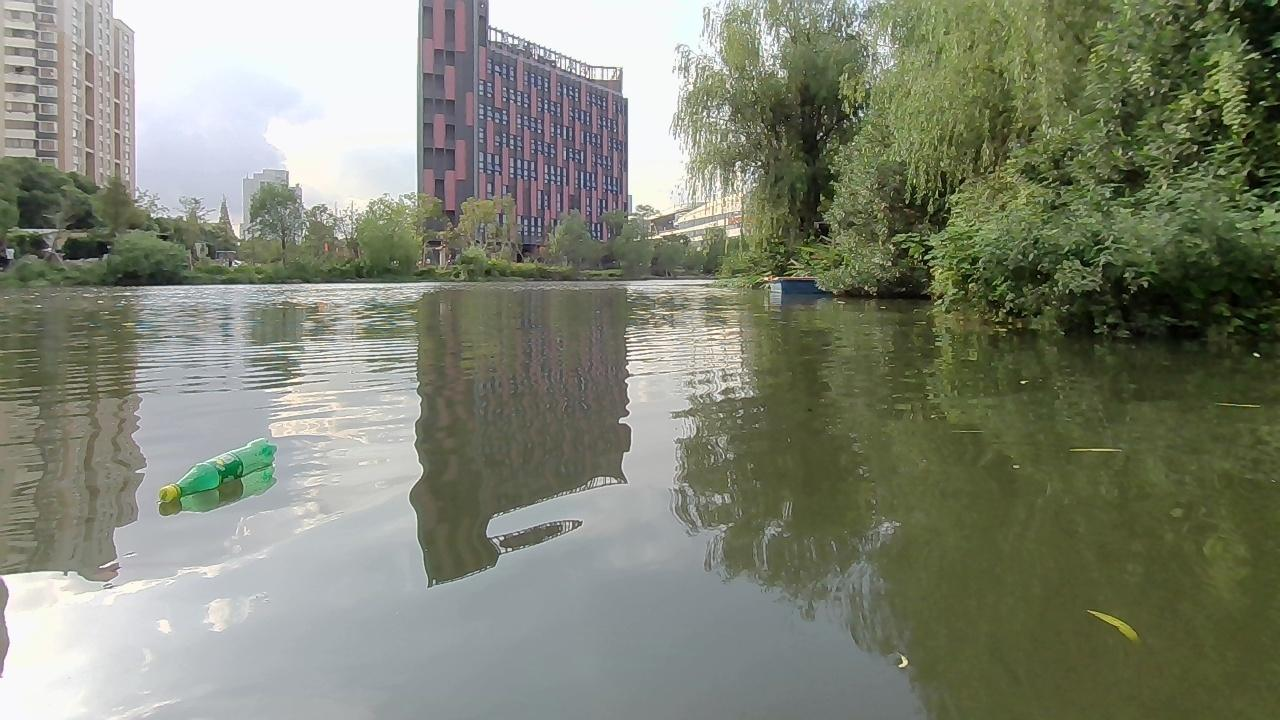bottle: (148, 429, 278, 506)
